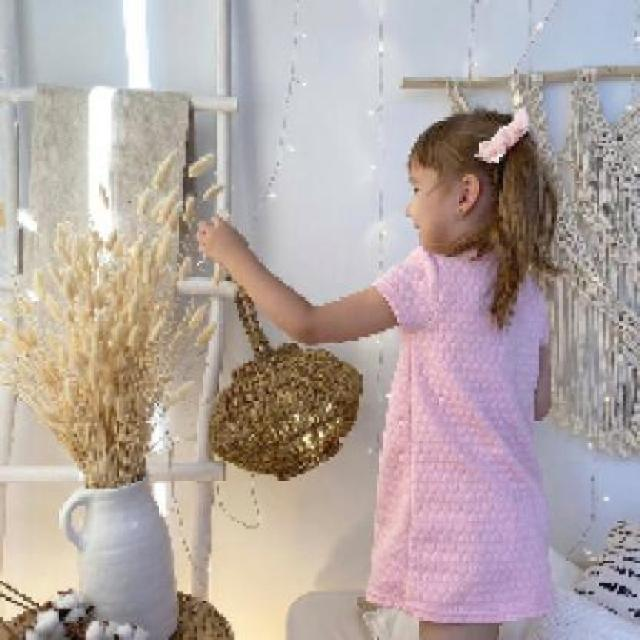child: (194, 108, 563, 638)
